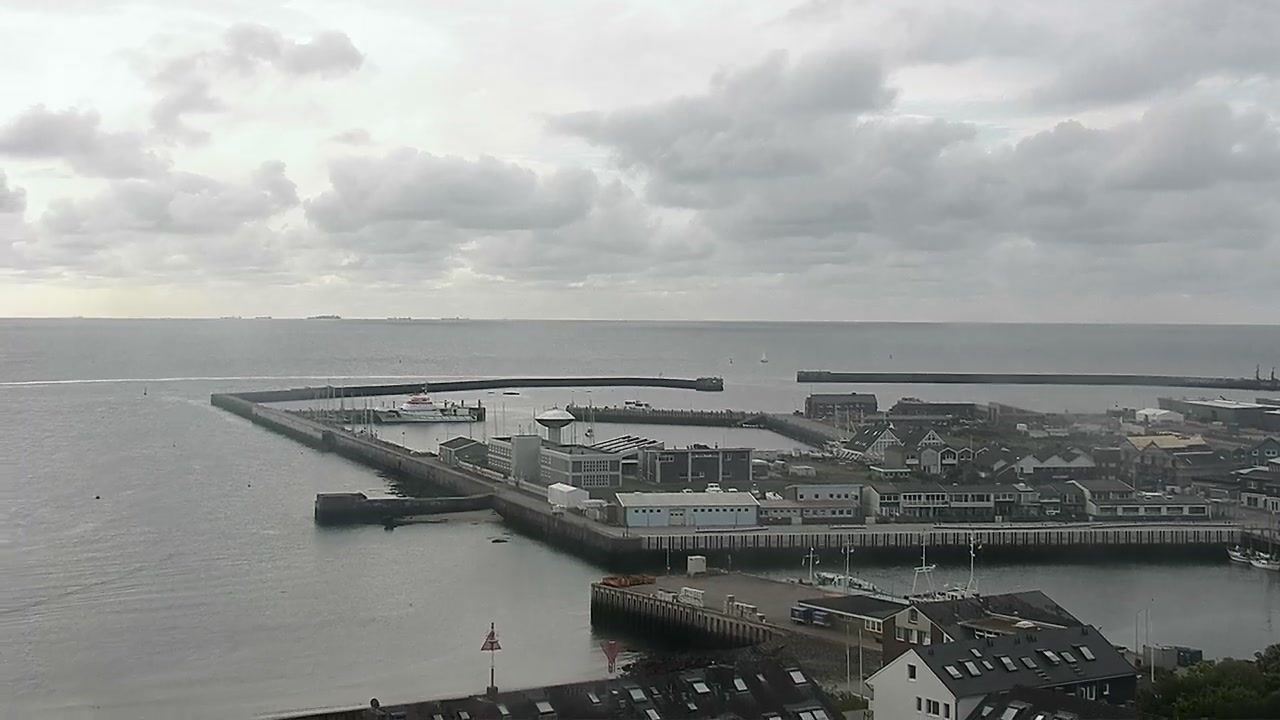sea: (813, 528, 945, 603), (373, 380, 477, 421), (945, 529, 981, 600), (780, 546, 821, 586), (623, 399, 653, 410), (760, 352, 769, 363)
